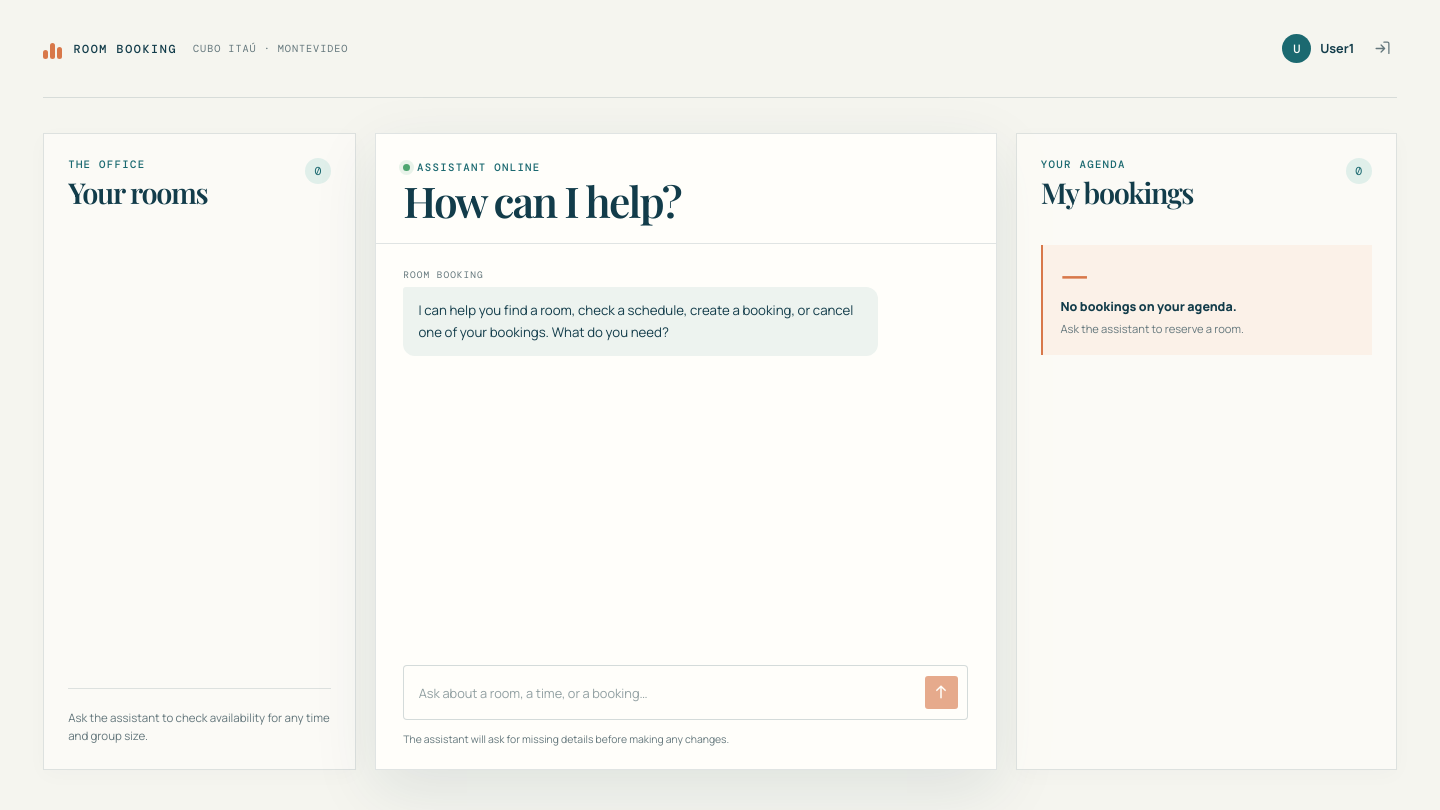
App › sends a chat message and refreshes bookings after a booking effect
Expected: the heading "How can I help?" is shown, [403, 180, 681, 222]
Type "Book room A" into the text box named "Message the booking assistant". click: x=665, y=693
box: [414, 678, 915, 709]
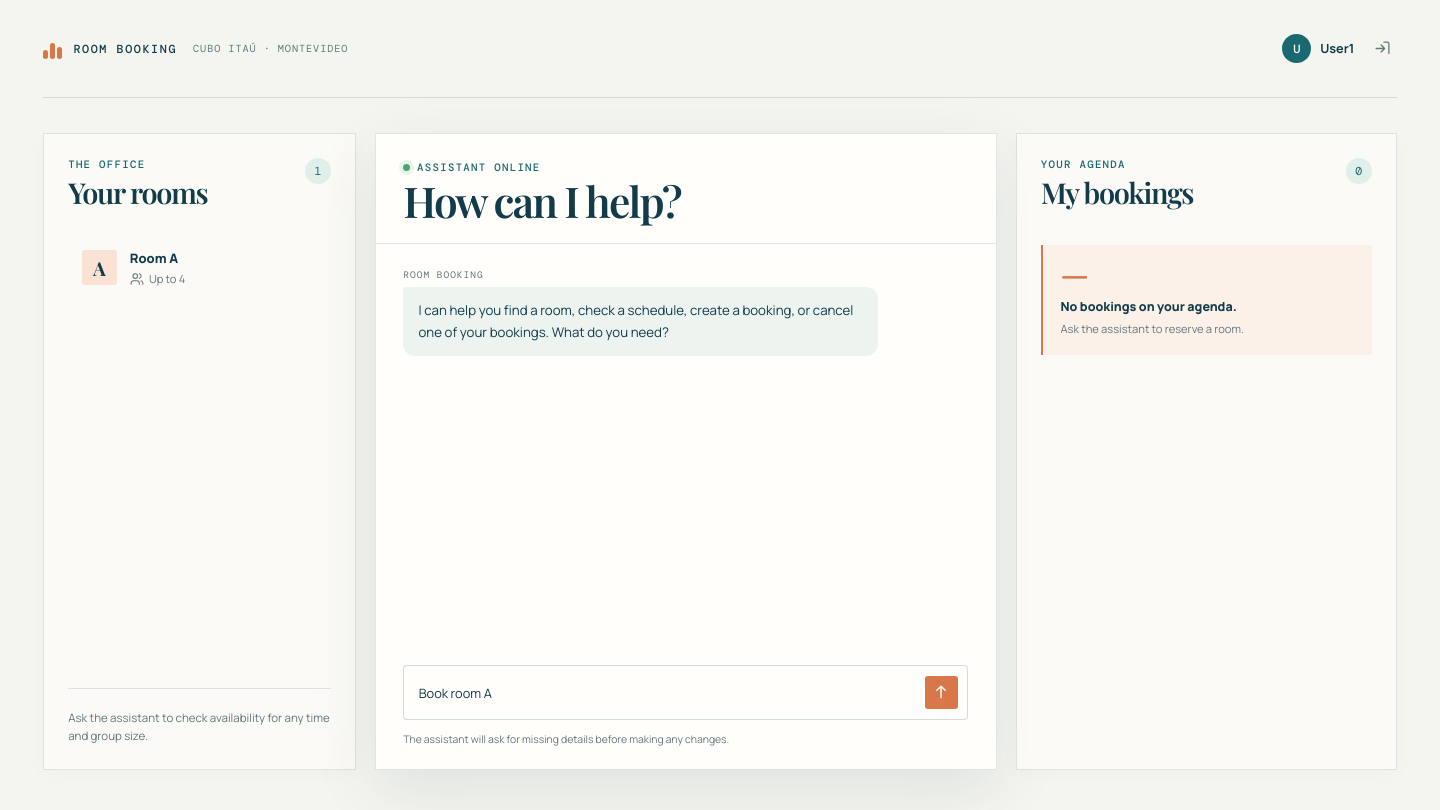
Click the button named "Send message". click: x=941, y=692
box: [925, 676, 958, 709]
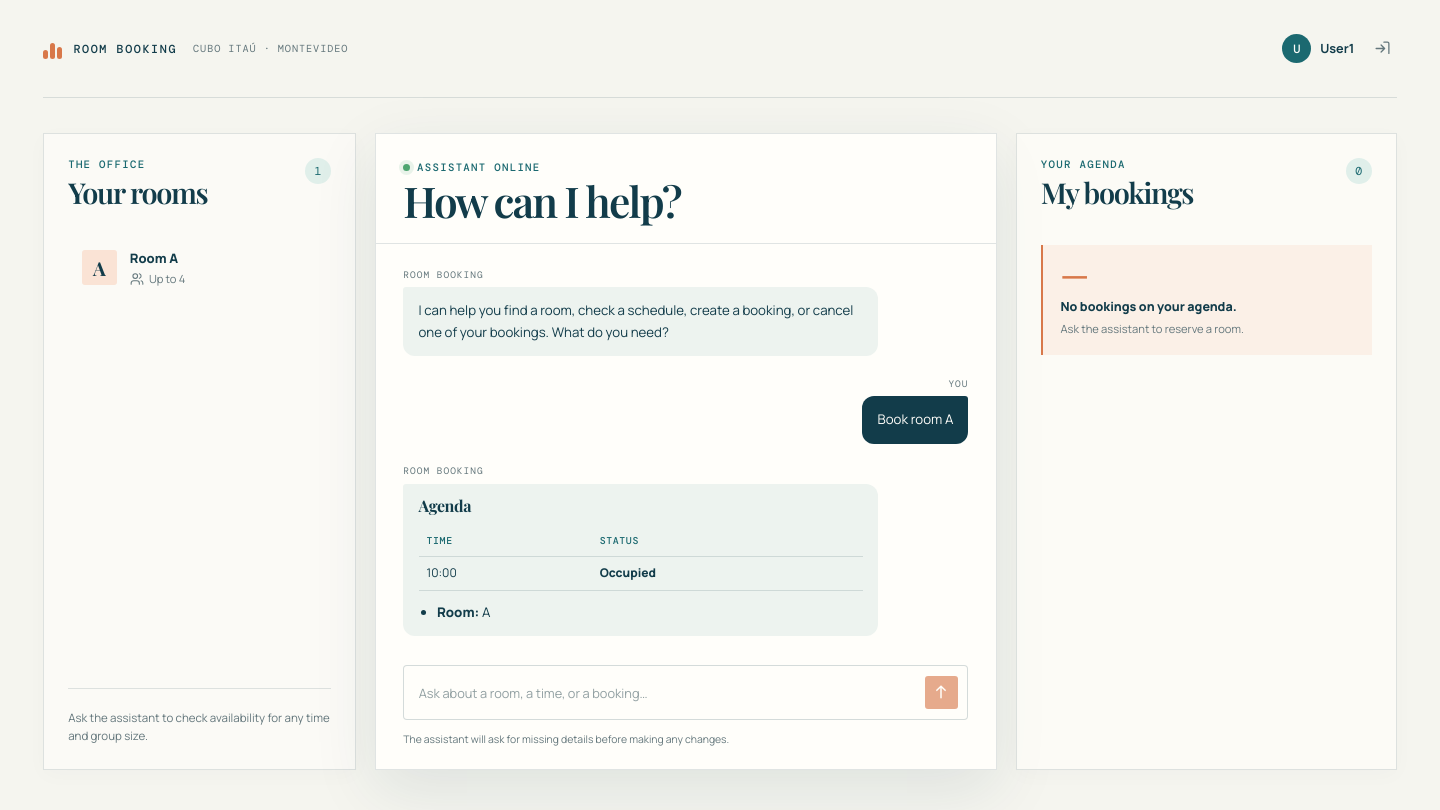
Result: the text "Occupied" is shown at [600, 564, 656, 581]
Result: the table is shown at [418, 526, 863, 591]
Result: the list is shown at [437, 603, 490, 621]
